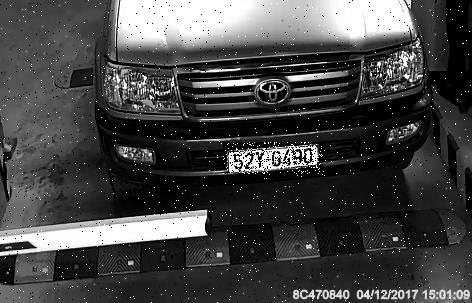License-plate: (225, 143, 326, 175)
